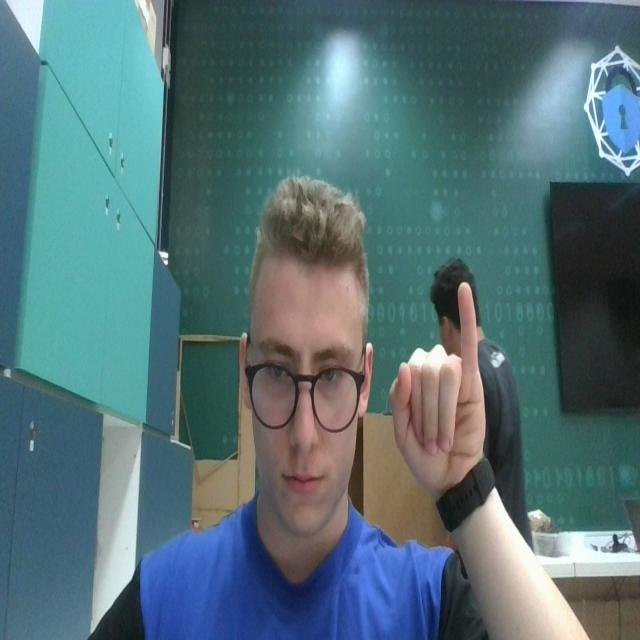I: (391, 279, 488, 478)
